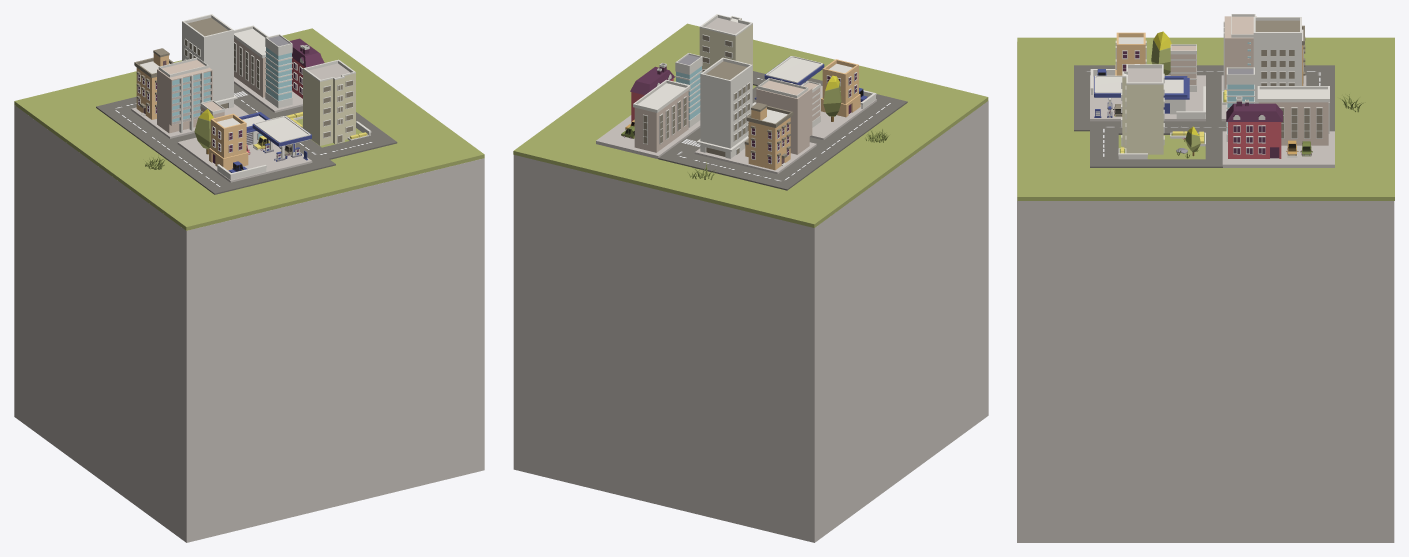
File: City2.fbx
The picture shows the model from 3 angles, left to right: view 1: azimuth 30°, elevation 25°; view 2: azimuth 150°, elevation 25°; view 3: azimuth 270°, elevation 25°; orthographic projection. The views are drawn at different scales.
Visible parts, largest first — view 1: city_2; view 2: city_2; view 3: city_2.
Part boxes in pixels (x1=…): city_2: x1=14, y1=14, x2=484, y2=542; city_2: x1=513, y1=14, x2=988, y2=542; city_2: x1=1017, y1=14, x2=1394, y2=542.
Bounding box in the file's own units: 12 × 15.23 × 12.02.
